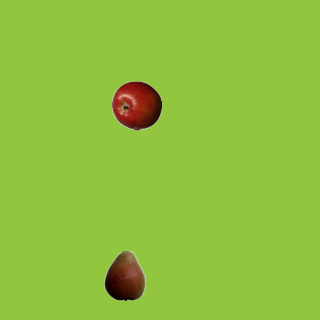Apple Braeburn: (111, 80, 161, 130)
Pear Forelle: (99, 250, 149, 300)
